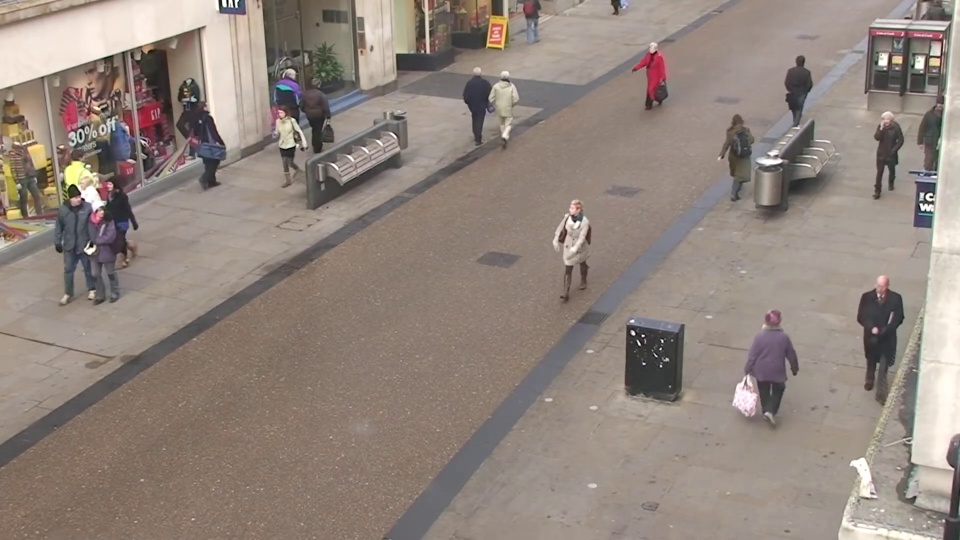pedestrian: (852, 276, 908, 415), (749, 295, 801, 438), (47, 189, 100, 302), (71, 200, 123, 315), (58, 170, 108, 278), (87, 174, 135, 283), (69, 141, 116, 241), (551, 197, 588, 315), (860, 109, 901, 205), (263, 106, 298, 197), (195, 93, 230, 181), (722, 106, 754, 199), (783, 50, 815, 130), (306, 74, 337, 156), (281, 64, 311, 144), (465, 62, 494, 143), (495, 62, 523, 143), (635, 39, 660, 114)
